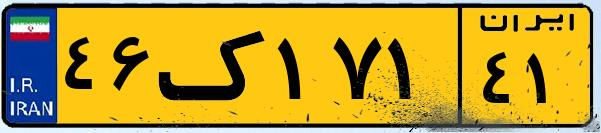1: (270, 28, 330, 110), (385, 28, 445, 110), (525, 38, 570, 115)
4: (57, 26, 110, 100), (475, 38, 525, 113)
6: (110, 28, 158, 98)
7: (330, 28, 385, 110)
ک: (158, 12, 270, 120)
